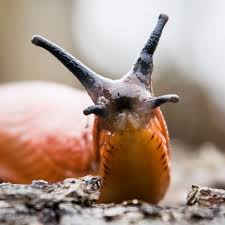slug: (28, 35, 179, 200)
